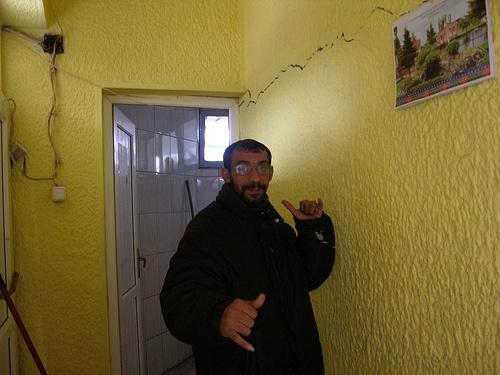Crack: (239, 3, 405, 113)
